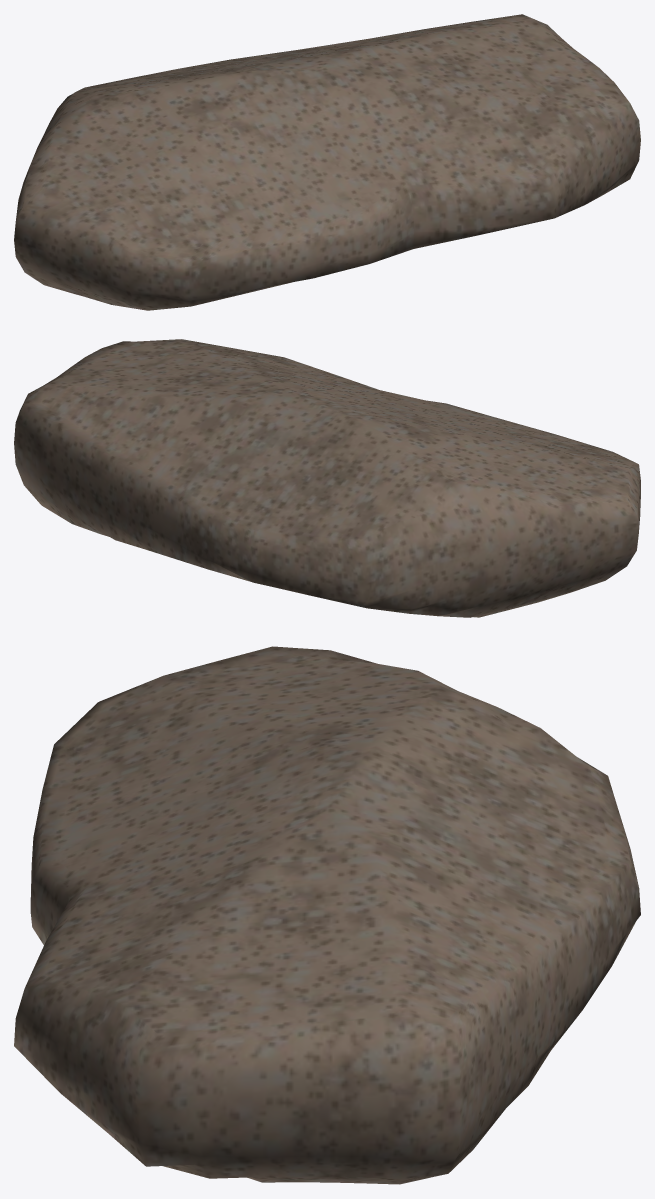
Rendered from jagged_gravel_04.glb.
3 views of the same model, one above another, from view 1: azimuth 30°, elevation 25°; view 2: azimuth 150°, elevation 25°; view 3: azimuth 270°, elevation 25° (orthographic). The views are drawn at different scales.
Visible parts, largest first — view 1: jagged_gravel_04; view 2: jagged_gravel_04; view 3: jagged_gravel_04.
Boxes of the visible parts, x1,y1,x2,y2 form: jagged_gravel_04: [14, 14, 640, 310]; jagged_gravel_04: [14, 339, 640, 617]; jagged_gravel_04: [14, 646, 640, 1184].
Bounding box in the file's own units: 0.0792 × 0.0228 × 0.0494.
1 material, 1 textured.
